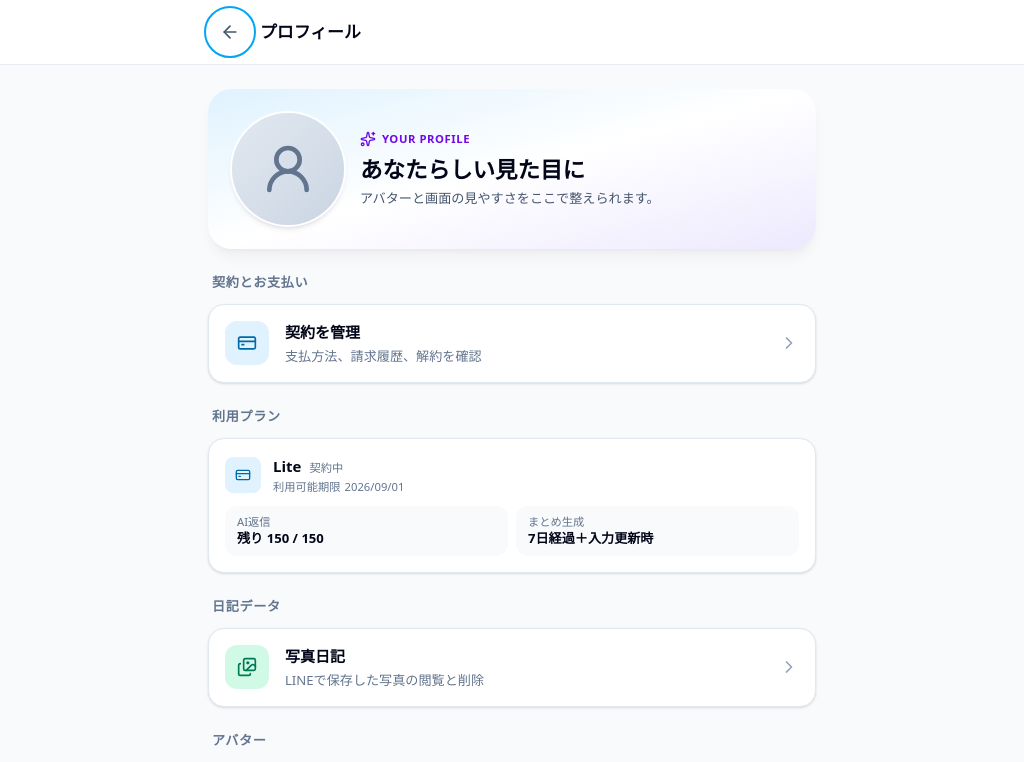
Test: ProfileSettingsScreen › 本人がプロフィールから契約管理を開き、反映待ちなら理由を確認できる
The width and height of the screenshot is (1024, 762).
Click the button "契約を管理 支払方法、請求履歴、解約を確認" at (247, 343), box [208,304,816,383]
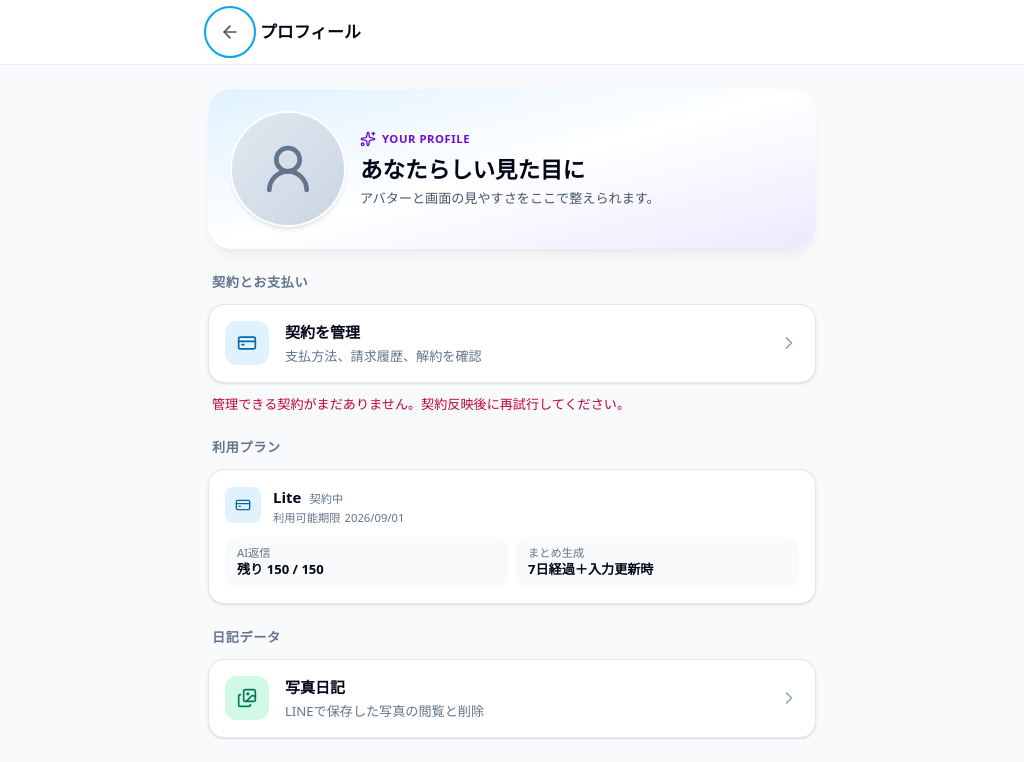
Expected: the text "支払方法、請求履歴、解約を確認" is shown, [285,347,482,365]
Result: the message shows "管理できる契約がまだありません" at [212,395,630,413]
